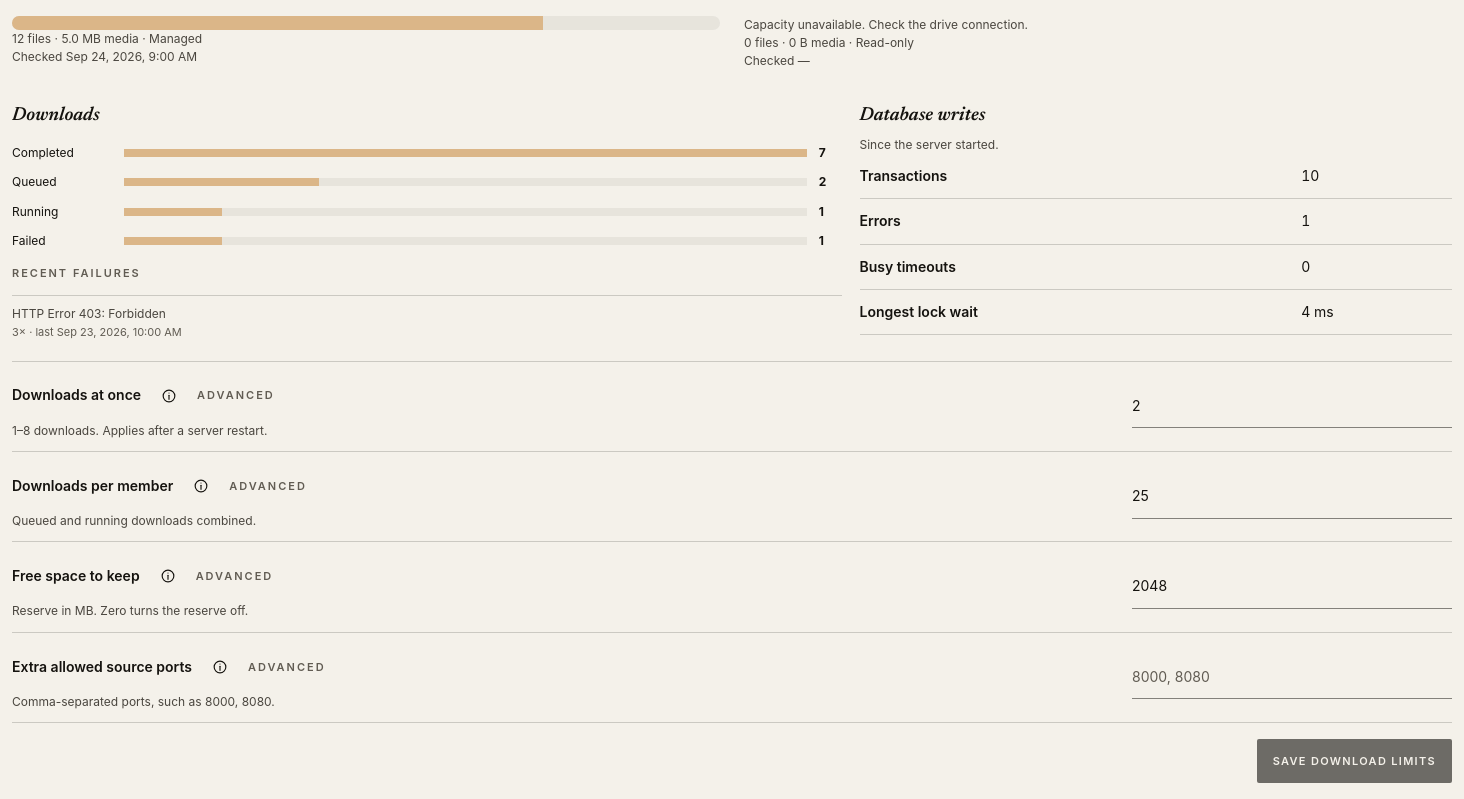
Test: admin overview › saves download limits from their own rows, keeps entered values on failure and refreshes the overview
(page scrolled)
expect the button "Save download limits" is disabled: met, box [1257,739,1452,783]
expect the button named "About Downloads at once" is shown: met, box [147,374,191,418]
Replace the text in the number field named "Simultaneous downloads" in the row of "Downloads at once" with "4" at (1292, 406), box [1132,384,1452,428]
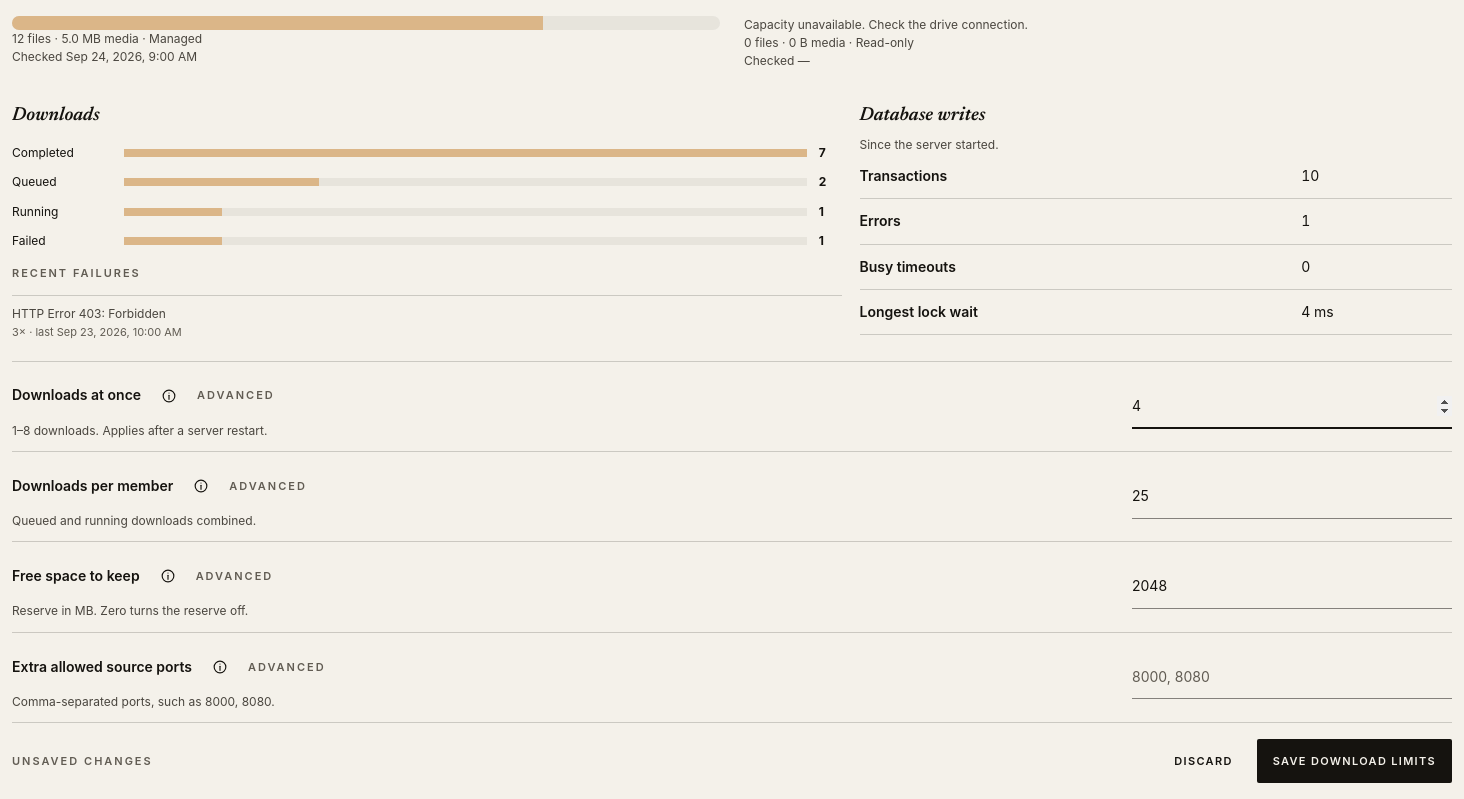
Click the button "Save download limits".
click(1354, 761)  # box [1257,739,1452,783]
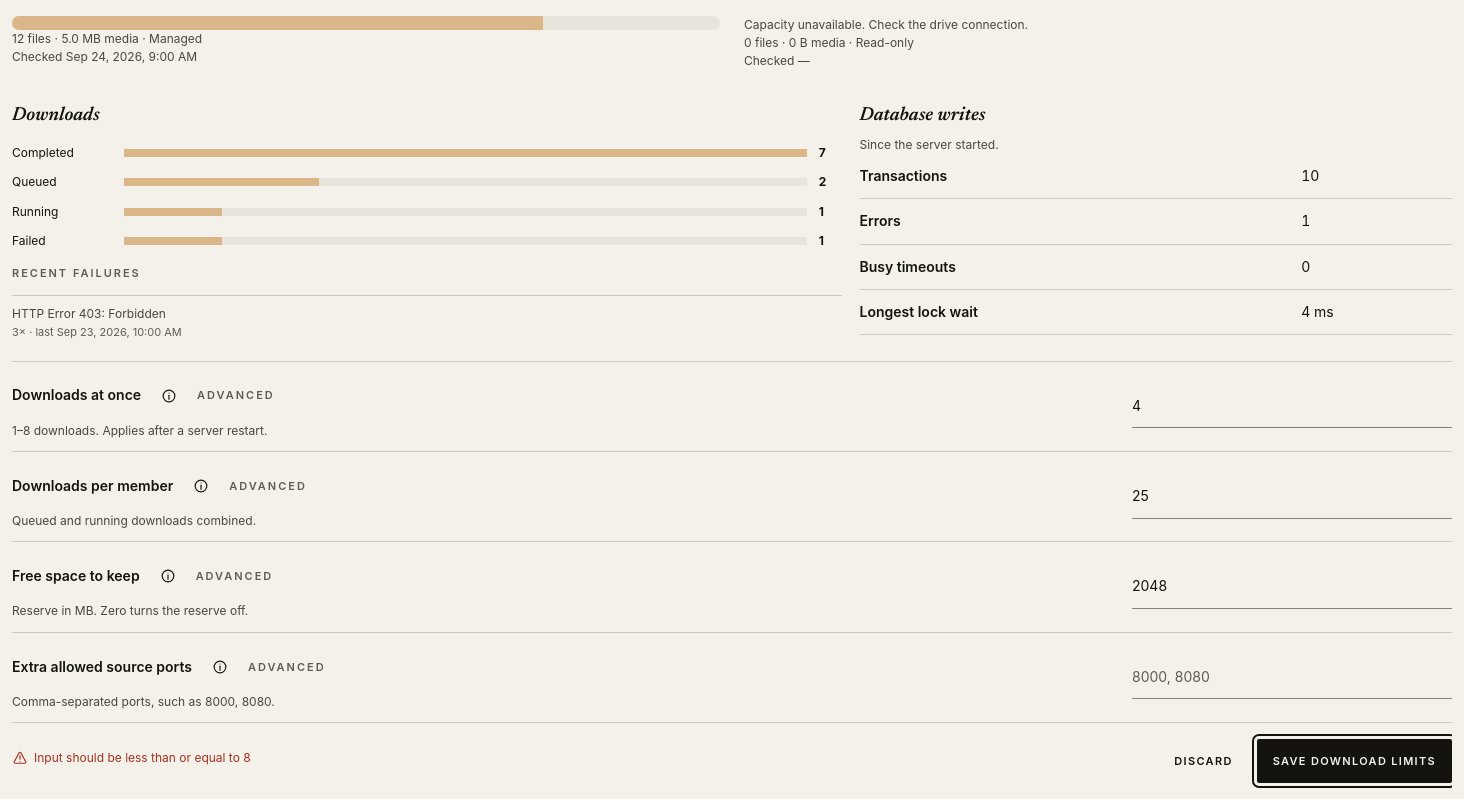
expect the text "Input should be less than or equal to 8" is shown: met, box [12,749,251,773]
Click the button "Save download limits".
click(1354, 761)  # box [1257,739,1452,783]
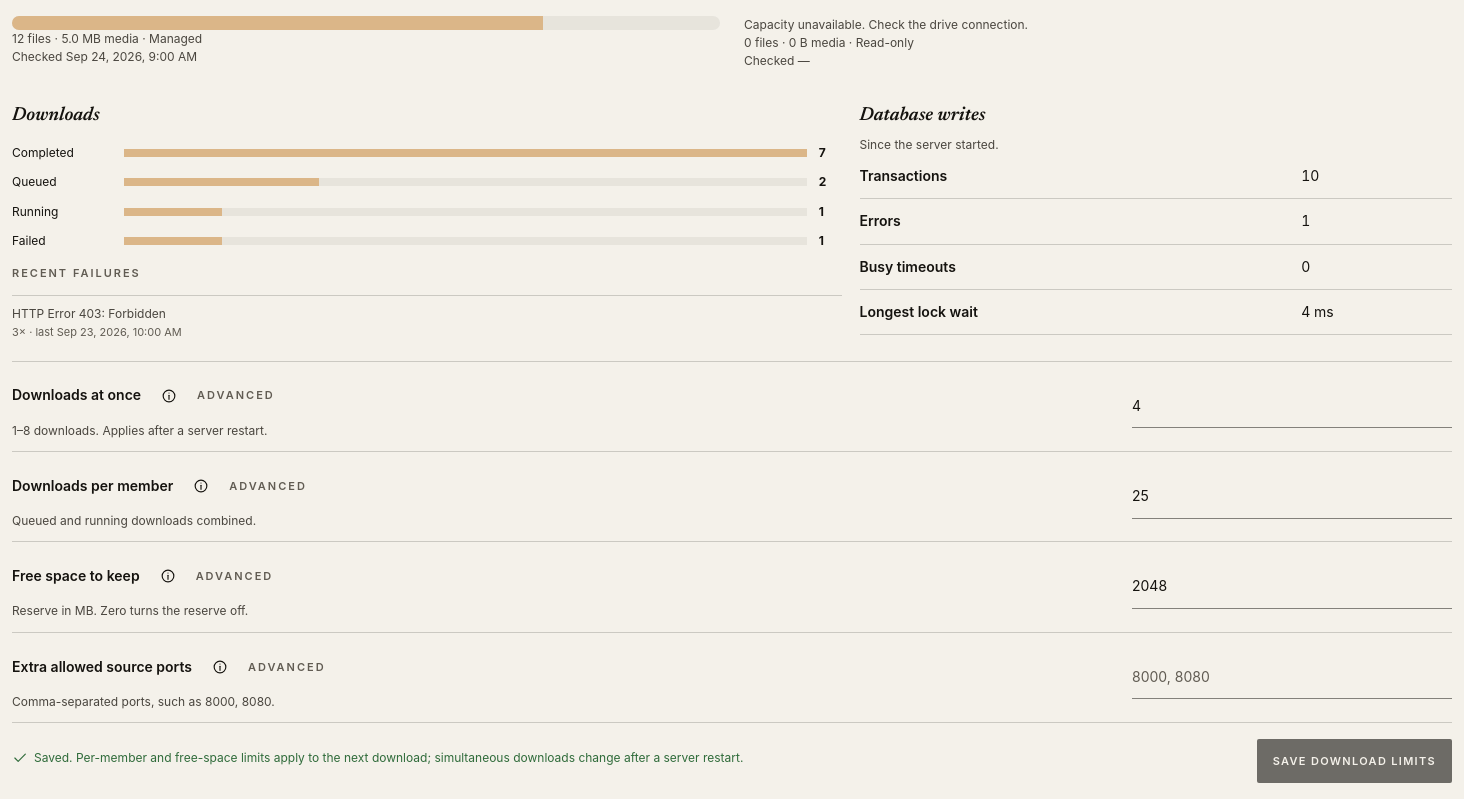
expect the text "Saved." is shown: met, box [34,750,743,765]
